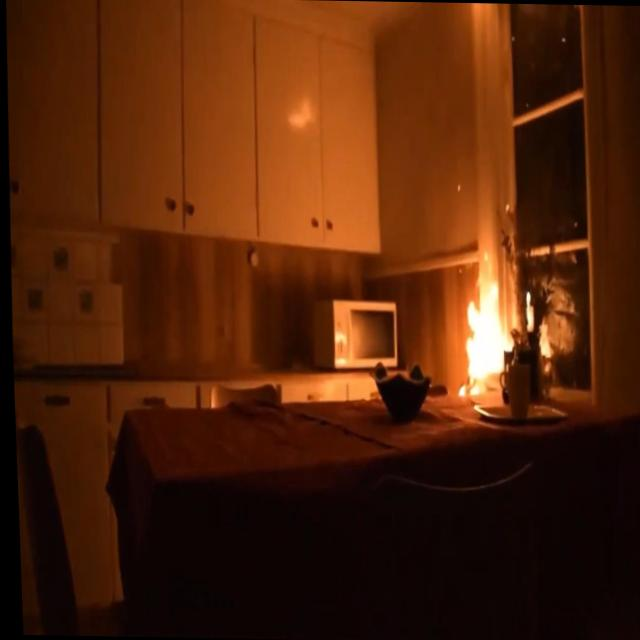fire: (448, 270, 512, 398), (522, 287, 530, 307)
